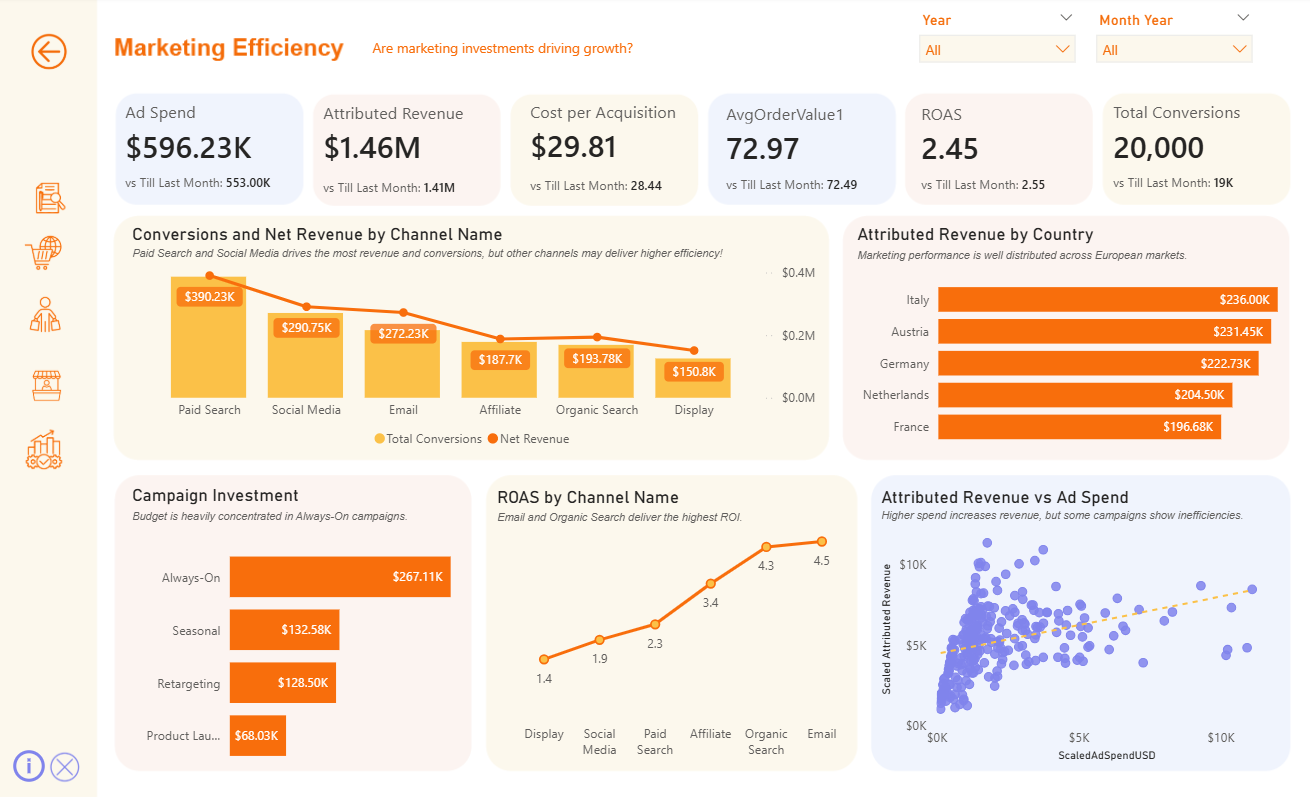

This screenshot's page, from the dashboard's own definition file:
{"tool":"powerbi","page":{"name":"Marketing Efficency","canvas":[1280,780],"ordinal":4},"visuals":[{"type":"cardVisual","fields":{"Data":["_Measures.ScaledAdSpendUSD"]},"box":[120.6,101.2,209.1,123.5],"z":0},{"type":"cardVisual","fields":{"Data":["_Measures.Total Conversions"]},"box":[1081.6,101.2,183.8,123.5],"z":1000},{"type":"cardVisual","fields":{"Data":["_Measures.ROAS"]},"box":[894.8,101.2,175.1,128.4],"z":2000},{"type":"cardVisual","fields":{"Data":["_Measures.Scaled Attributed Revenue"]},"box":[313.2,97.3,249,140.1],"z":3000},{"type":"cardVisual","fields":{"Data":["_Measures.CPA1"]},"box":[514.4,96.9,233,136.1],"z":4000},{"type":"cardVisual","fields":{"Data":["_Measures.AvgOrderValue1"]},"box":[705.2,101.2,208.1,128.4],"z":5000},{"type":"textbox","box":[360.8,35.1,289.7,34],"z":6000},{"type":"lineClusteredColumnComboChart","title":"Conversions and Net Revenue by Channel Name","fields":{"Category":["Channels_raw.ChannelName"],"Y2":["_Measures.Net Revenue"],"Y":["_Measures.Total Conversions"]},"box":[127,221,675,227],"z":7000},{"type":"lineChart","title":"ROAS by Channel Name","fields":{"Category":["Channels_raw.ChannelName"],"Y":["_Measures.ROAS"]},"box":[482.5,476.3,350.5,271.1],"z":8000},{"type":"clusteredBarChart","title":"Attributed Revenue by Country","fields":{"Category":["Campaigns_raw.TargetCountry"],"Y":["_Measures.Scaled Attributed Revenue"]},"box":[832.6,220.8,438.7,227.6],"z":9000},{"type":"clusteredBarChart","title":"Campaign Investment","fields":{"Category":["Campaigns_raw.CampaignType"],"Y":["_Measures.ScaledAdSpendUSD"]},"box":[127.4,474.7,346.3,290.8],"z":10000},{"type":"scatterChart","title":"Attributed Revenue vs Ad Spend","fields":{"X":["_Measures.ScaledAdSpendUSD"],"Y":["_Measures.Scaled Attributed Revenue"],"Category":["Campaigns_raw.CampaignID"]},"box":[855.7,476.3,409.3,271.1],"z":11000},{"type":"image","box":[11.3,172.2,79,49],"z":12000},{"type":"image","box":[11.3,220.2,70,58],"z":13000},{"type":"image","box":[11.3,279.2,70,58],"z":14000},{"type":"image","box":[7.2,13.4,78.4,78.4],"z":15000},{"type":"image","box":[11.3,350.2,79,58],"z":16000},{"type":"image","box":[11.3,416.2,70,51],"z":17000},{"type":"actionButton","box":[11.7,727.5,44.7,40.9],"z":19000},{"type":"image","box":[34,728.5,63.2,40.9],"z":20000},{"type":"slicer","fields":{"Values":["Calendar.Year"]},"box":[888,8.8,172.2,60.3],"z":21000},{"type":"slicer","fields":{"Values":["Calendar.Month Year"]},"box":[1060.2,8.8,172.2,60.3],"z":22000}]}

Visuals, with their boxes on the page's 1280x780 design canvas (x1, y1, x2, y2). These are canvas units, not pixel positions in the 1310x797 screenshot, which may show the page scaled, cropped or inside an application window:
cardVisual - _Measures.ScaledAdSpendUSD: [left=121, top=101, right=330, bottom=225]
cardVisual - _Measures.Total Conversions: [left=1082, top=101, right=1265, bottom=225]
cardVisual - _Measures.ROAS: [left=895, top=101, right=1070, bottom=230]
cardVisual - _Measures.Scaled Attributed Revenue: [left=313, top=97, right=562, bottom=237]
cardVisual - _Measures.CPA1: [left=514, top=97, right=747, bottom=233]
cardVisual - _Measures.AvgOrderValue1: [left=705, top=101, right=913, bottom=230]
textbox: [left=361, top=35, right=650, bottom=69]
"Conversions and Net Revenue by Channel Name" lineClusteredColumnComboChart: [left=127, top=221, right=802, bottom=448]
"ROAS by Channel Name" lineChart: [left=482, top=476, right=833, bottom=747]
"Attributed Revenue by Country" clusteredBarChart: [left=833, top=221, right=1271, bottom=448]
"Campaign Investment" clusteredBarChart: [left=127, top=475, right=474, bottom=766]
"Attributed Revenue vs Ad Spend" scatterChart: [left=856, top=476, right=1265, bottom=747]
image: [left=11, top=172, right=90, bottom=221]
image: [left=11, top=220, right=81, bottom=278]
image: [left=11, top=279, right=81, bottom=337]
image: [left=7, top=13, right=86, bottom=92]
image: [left=11, top=350, right=90, bottom=408]
image: [left=11, top=416, right=81, bottom=467]
actionButton: [left=12, top=728, right=56, bottom=768]
image: [left=34, top=728, right=97, bottom=769]
slicer - Calendar.Year: [left=888, top=9, right=1060, bottom=69]
slicer - Calendar.Month Year: [left=1060, top=9, right=1232, bottom=69]
